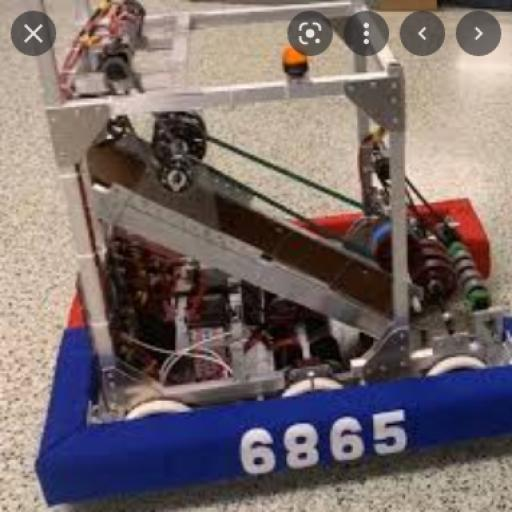robot: (28, 18, 512, 502)
